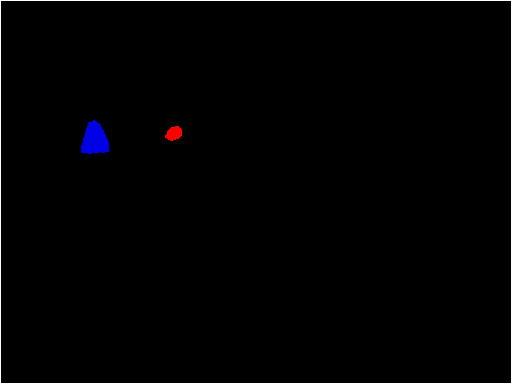chipped: (84, 126, 104, 149)
detached: (166, 127, 180, 141)
